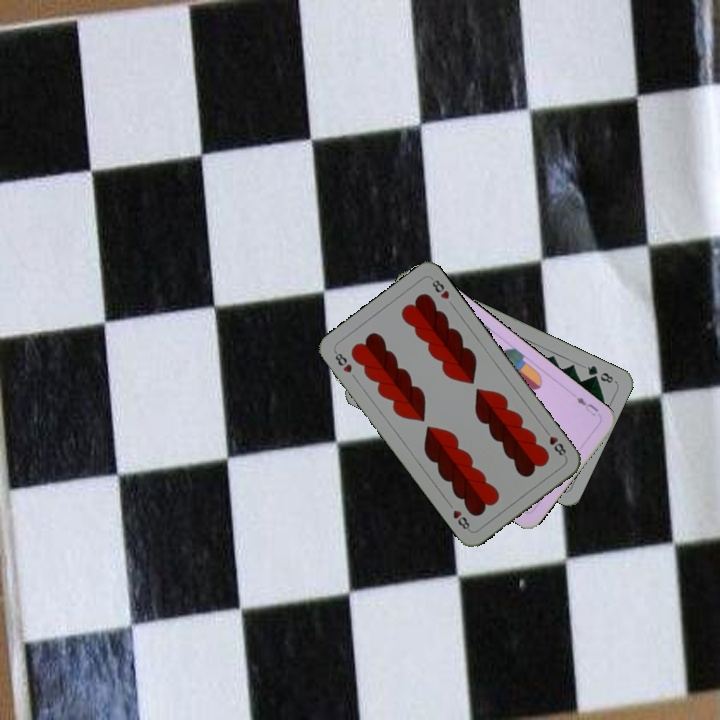EU: (572, 393, 601, 419)
G8: (583, 361, 616, 386)
H8: (540, 425, 569, 460), (330, 347, 355, 376)
